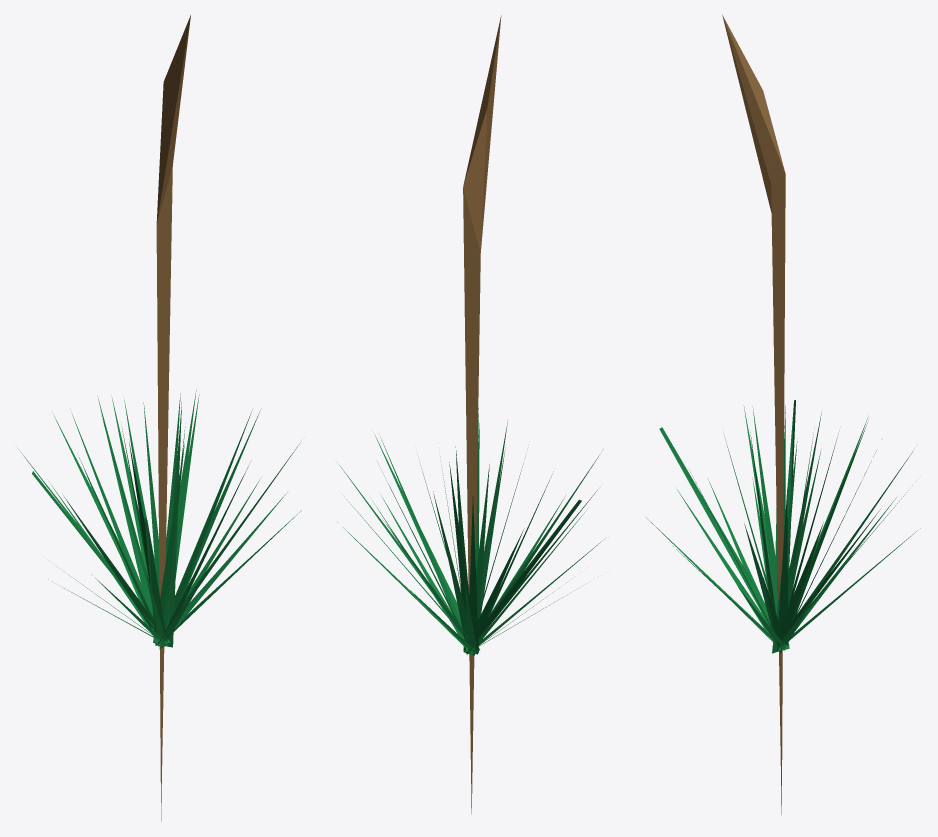
File: DesertSpoon_LOD2.fbx
3 renders of one model, left to right at view 1: azimuth 30°, elevation 25°; view 2: azimuth 150°, elevation 25°; view 3: azimuth 270°, elevation 25°, orthographic. The views are drawn at different scales.
Visible parts, largest first — view 1: DesertSpoon_LOD2; view 2: DesertSpoon_LOD2; view 3: DesertSpoon_LOD2.
Part boxes in pixels (box(x1,y1,x2,y2)): DesertSpoon_LOD2: box(18, 15, 301, 821); DesertSpoon_LOD2: box(337, 15, 606, 814); DesertSpoon_LOD2: box(646, 15, 920, 814).
Size of the model in its own units: 87.8 by 278 by 90.75.
